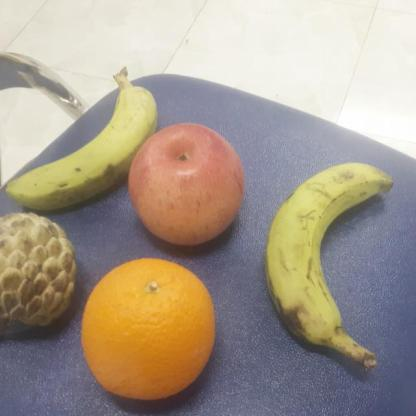annona: (0, 212, 85, 328)
apple: (126, 120, 248, 248)
banana: (262, 158, 398, 346), (1, 82, 159, 214)
orange: (80, 254, 215, 402)
